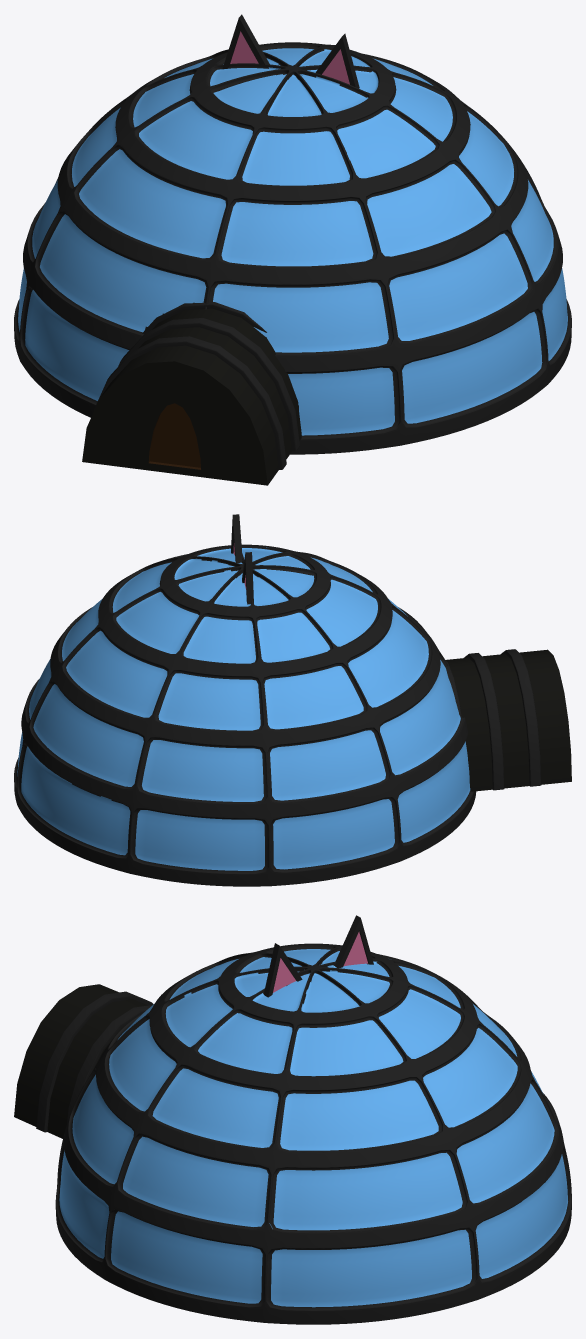
File: spacebuilding3.obj
3 renders of one model, top to bottom at view 1: azimuth 30°, elevation 25°; view 2: azimuth 150°, elevation 25°; view 3: azimuth 270°, elevation 25°, orthographic. The views are drawn at different scales.
Parts seen in each view (by area): view 1: pSphere4; view 2: pSphere4; view 3: pSphere4.
Part boxes in pixels (<box>): pSphere4: <box>14,14,571,485</box>; pSphere4: <box>14,514,571,886</box>; pSphere4: <box>14,915,571,1324</box>.
Bounding box in the file's own units: 83.63 × 45.59 × 80.36.
